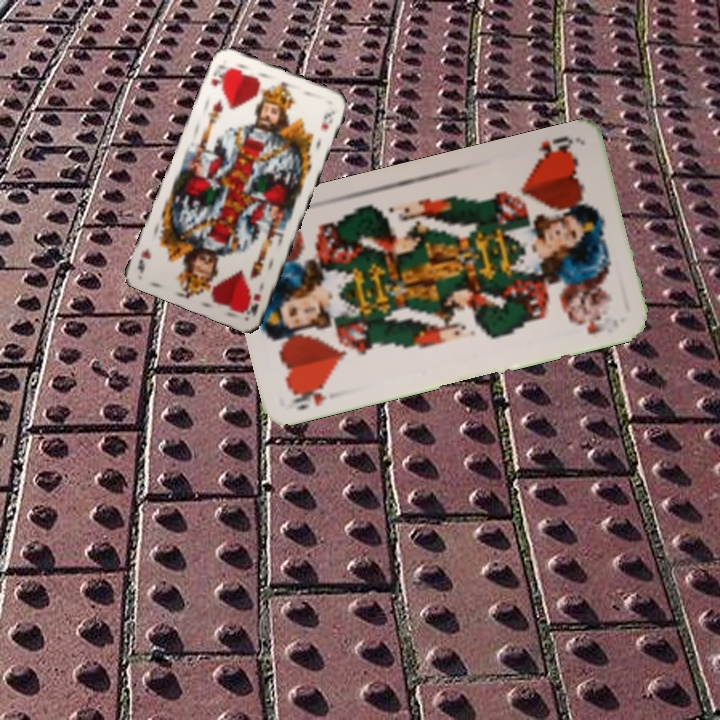HK: (207, 60, 232, 94), (242, 290, 264, 319)
HO: (285, 380, 330, 413), (533, 132, 576, 164)
